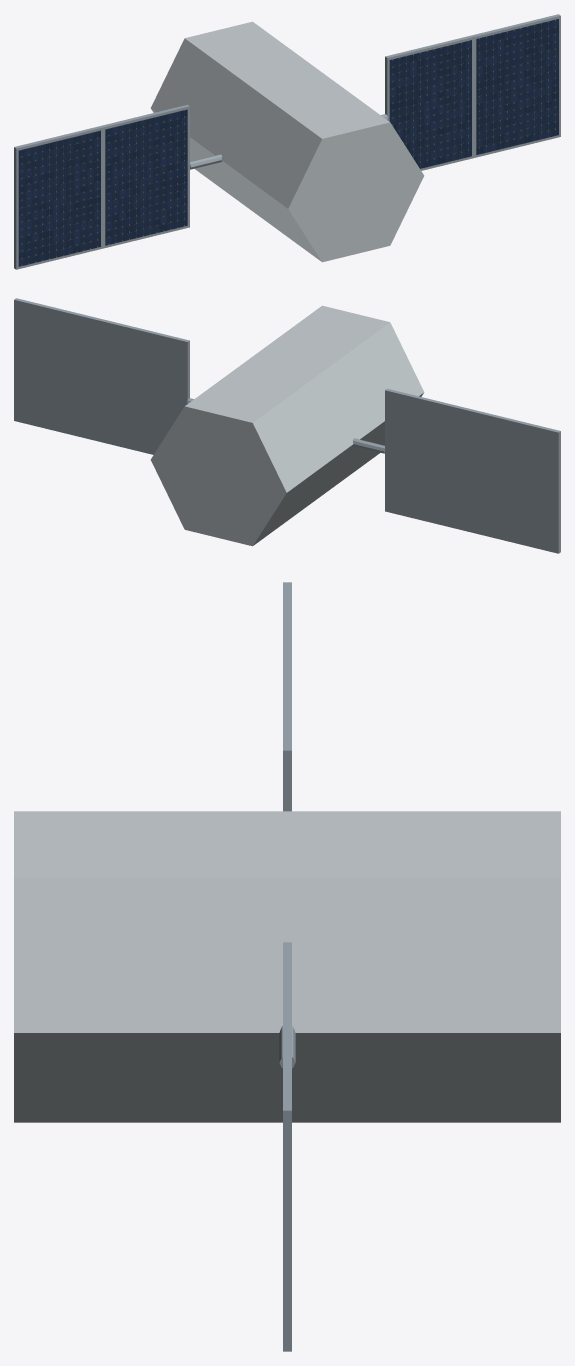
Rendered from ref-irs-2-29710.glb.
3 renders of one model, top to bottom at view 1: azimuth 30°, elevation 25°; view 2: azimuth 150°, elevation 25°; view 3: azimuth 270°, elevation 25°, orthographic. The views are drawn at different scales.
Parts seen in each view (by area): view 1: Photovoltaic laminates (×4), Spacecraft body, Array frame (×4); view 2: Array frame (×4), Spacecraft body; view 3: Spacecraft body, Array frame (×2).
Part boxes in pixels (x1,y1,x2,y2): Photovoltaic laminates (×4): [18, 19, 558, 266]; Spacecraft body: [150, 21, 424, 262]; Array frame (×4): [14, 14, 560, 269]; Array frame (×4): [14, 298, 560, 553]; Spacecraft body: [150, 305, 424, 546]; Spacecraft body: [14, 811, 560, 1122]; Array frame (×2): [283, 666, 291, 1351].
Size of the model in its own units: 8 by 1.73 by 3.5.
3 materials, 1 textured.
